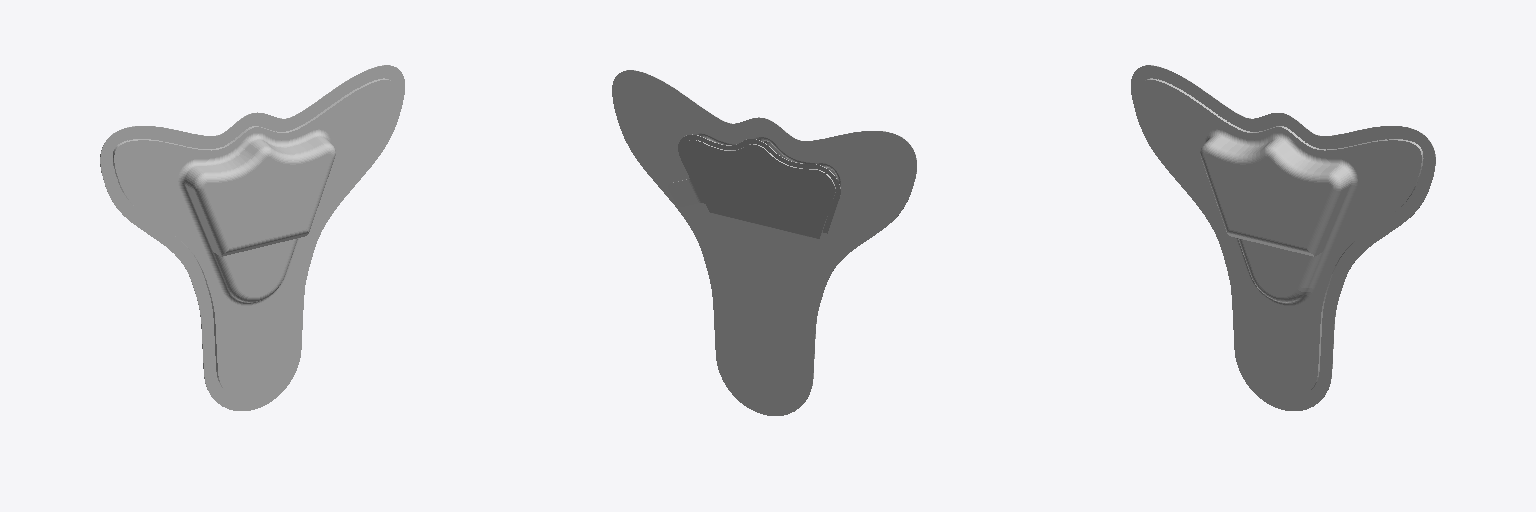
3 views of the same model, side by side, from view 1: azimuth 30°, elevation 25°; view 2: azimuth 150°, elevation 25°; view 3: azimuth 330°, elevation 25° (orthographic).
Visible parts, largest first — view 1: VS-100-E3; view 2: VS-100-E3; view 3: VS-100-E3.
Part boxes in pixels (x1,y1,x2,y2): VS-100-E3: (100,65,404,410); VS-100-E3: (612,70,916,415); VS-100-E3: (1131,65,1435,410).
Bounding box in the file's own units: 1.25 × 1.23 × 0.1701.